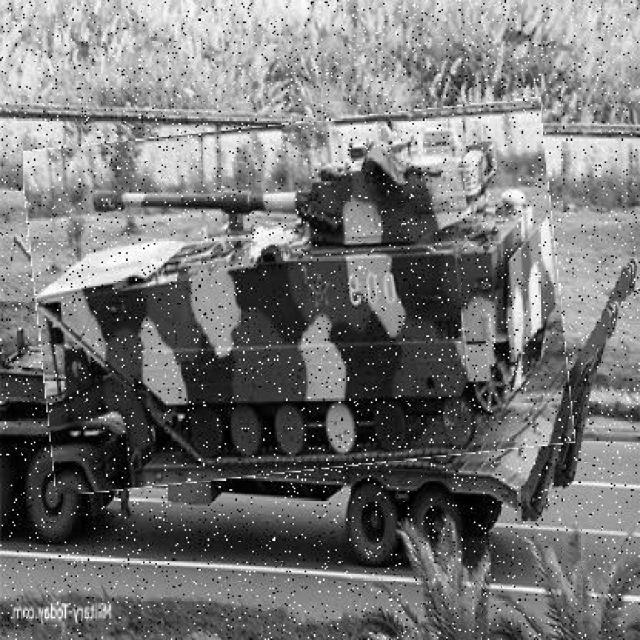Tank: (30, 112, 567, 484)
